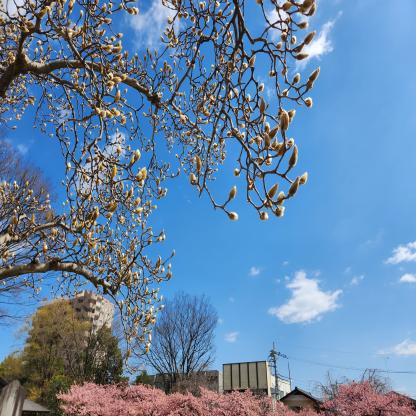Mokuren: (0, 0, 320, 376)
